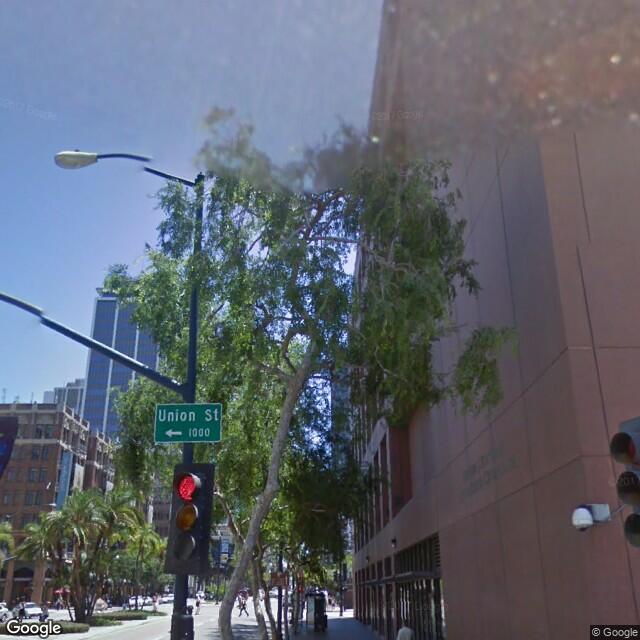light: (53, 147, 104, 172)
